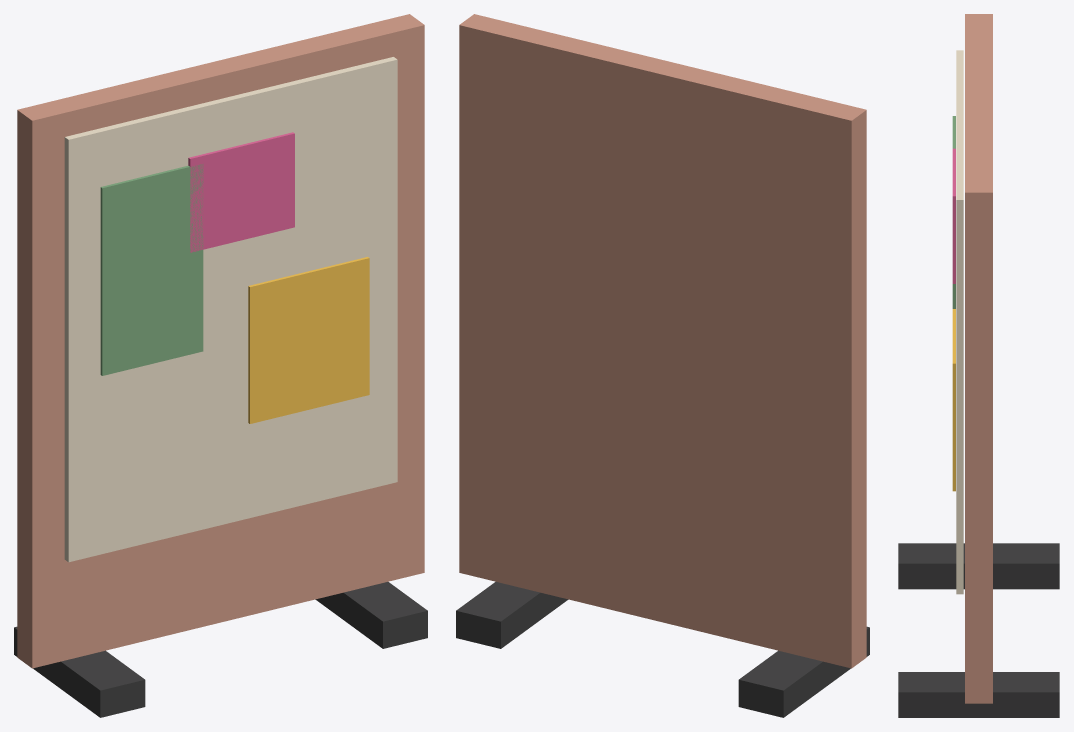
3 renders of one model, left to right at view 1: azimuth 30°, elevation 25°; view 2: azimuth 150°, elevation 25°; view 3: azimuth 270°, elevation 25°, orthographic. The views are drawn at different scales.
Parts seen in each view (by area): view 1: Canvas, Panel, Abstract geometric work, Abstract geometric work.001, Abstract geometric work.002, Panel foot, Panel foot.001; view 2: Panel, Panel foot, Panel foot.001; view 3: Panel, Panel foot.001, Panel foot, Canvas, Abstract geometric work.001, Abstract geometric work.002.
Boxes of the visible parts, x1,y1,x2,y2 form: Canvas: [64, 57, 397, 562]; Panel: [17, 14, 424, 668]; Abstract geometric work: [100, 164, 203, 375]; Abstract geometric work.001: [248, 257, 369, 423]; Abstract geometric work.002: [188, 132, 294, 252]; Panel foot: [14, 626, 145, 717]; Panel foot.001: [315, 582, 427, 648]; Panel: [459, 14, 866, 668]; Panel foot: [738, 626, 869, 717]; Panel foot.001: [456, 582, 568, 648]; Panel: [965, 14, 992, 703]; Panel foot.001: [898, 672, 1059, 717]; Panel foot: [898, 543, 1059, 589]; Canvas: [956, 50, 963, 594]; Abstract geometric work.001: [952, 309, 955, 491]; Abstract geometric work.002: [952, 148, 955, 283].
Bounding box in the file's own units: 105 × 148 × 40.
